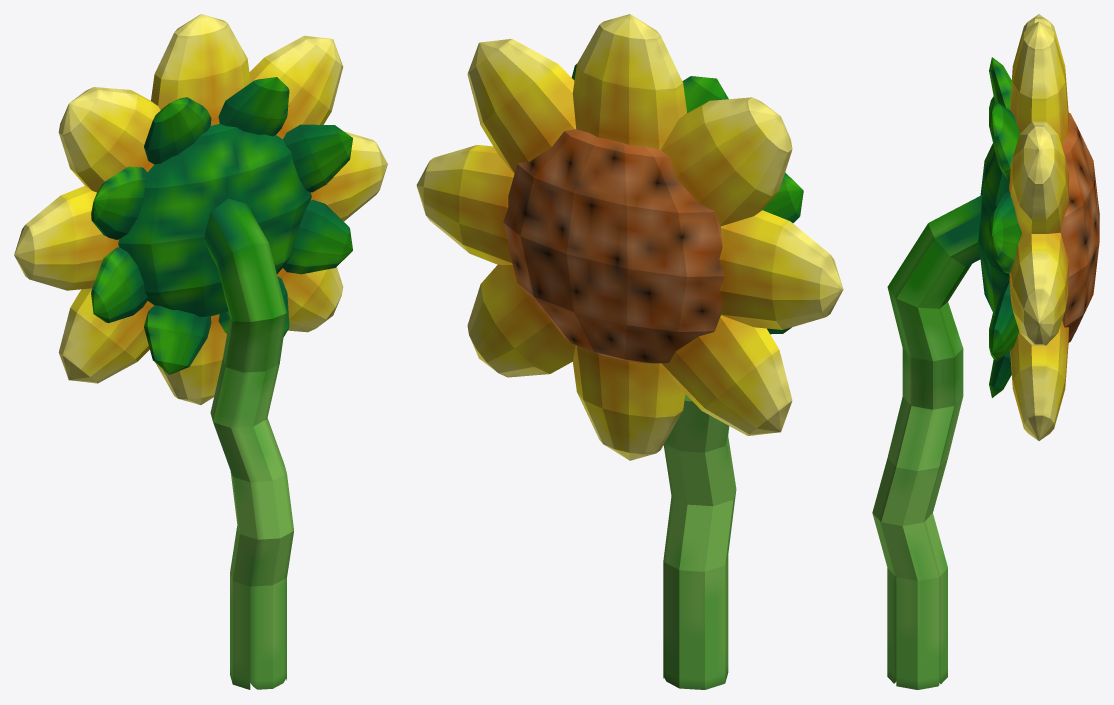
Rendered from Sunflower.fbx.
3 views of the same model, side by side, from view 1: azimuth 30°, elevation 25°; view 2: azimuth 150°, elevation 25°; view 3: azimuth 270°, elevation 25° (orthographic). The views are drawn at different scales.
Parts seen in each view (by area): view 1: torus, sphere_2, sphere_7, sphere_5, sphere_1, sphere_8, sphere_9, sphere_4, sphere_16, sphere_12, sphere_15, sphere_14 (+5 smaller); view 2: sphere, torus, sphere_7, sphere_1, sphere_5, sphere_8, sphere_9, sphere_3, sphere_4, sphere_6, sphere_17, sphere_10; view 3: torus, sphere, sphere_4, sphere_9, sphere_1, sphere_6, sphere_2, sphere_12, sphere_14, sphere_16, sphere_10, sphere_11 (+1 smaller).
Part boxes in pixels (box(x1,y1,x2,y2)): torus: box(204, 198, 293, 689); sphere_2: box(118, 123, 311, 317); sphere_7: box(58, 87, 160, 192); sphere_5: box(14, 186, 119, 290); sphere_1: box(151, 14, 250, 125); sphere_8: box(58, 288, 154, 383); sphere_9: box(249, 35, 343, 138); sphere_4: box(310, 131, 387, 221); sphere_16: box(283, 200, 352, 274); sphere_12: box(283, 124, 352, 192); sphere_15: box(144, 305, 211, 374); sphere_14: box(218, 77, 289, 136); sphere: box(503, 129, 724, 363); torus: box(663, 394, 736, 689); sphere_7: box(660, 97, 792, 226); sphere_1: box(572, 14, 686, 149); sphere_5: box(719, 210, 843, 329); sphere_8: box(661, 315, 792, 435); sphere_9: box(467, 39, 575, 173); sphere_3: box(572, 345, 685, 460); sphere_4: box(416, 145, 514, 264); sphere_6: box(467, 264, 575, 377); sphere_17: box(762, 172, 803, 222); sphere_10: box(682, 76, 728, 112); torus: box(872, 195, 981, 689); sphere: box(1060, 112, 1099, 342); sphere_4: box(1009, 233, 1068, 345); sphere_9: box(1009, 121, 1068, 233); sphere_1: box(1010, 21, 1068, 145); sphere_6: box(1010, 321, 1068, 440); sphere_2: box(978, 143, 1009, 314); sphere_12: box(989, 191, 1021, 273); sphere_14: box(989, 102, 1019, 184); sphere_16: box(989, 281, 1019, 360); sphere_10: box(989, 57, 1011, 110); sphere_11: box(989, 351, 1011, 397).
Bounding box in the file's own units: 30 × 47.76 × 15.
1 material, 1 textured.
